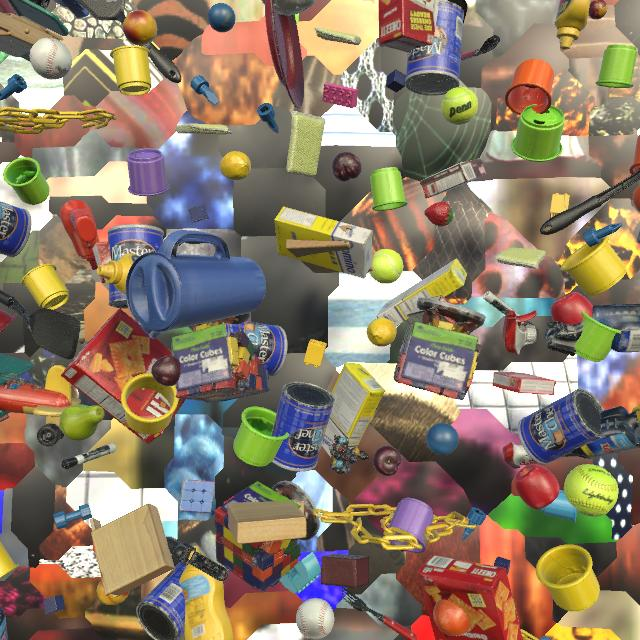ycb_002_master_chef_can: (518, 388, 605, 465), (271, 381, 335, 472), (405, 0, 464, 96), (107, 224, 164, 309), (136, 562, 186, 640), (222, 321, 288, 376), (0, 201, 31, 257)
ycb_003_cracker_box: (61, 308, 186, 444), (418, 554, 523, 640), (378, 0, 462, 53)
ycb_004_sugar_box: (274, 206, 372, 279), (377, 258, 467, 326), (322, 363, 385, 457)
ycb_006_mustard_bottle: (179, 546, 234, 640), (554, 0, 591, 50), (97, 253, 140, 295)
ycb_008_pudding_box: (420, 158, 487, 198), (406, 295, 470, 334)
ycb_009_gelatin_box: (492, 372, 556, 395), (92, 241, 111, 283)
ycb_010_potted_meat_can: (637, 231, 640, 244)
ycb_012_strawberry: (424, 202, 454, 227)
ycb_013_apple: (515, 464, 560, 510), (551, 292, 593, 325)
ycb_014_lemon: (220, 151, 251, 181), (367, 318, 397, 347)
ycb_015_peach: (123, 10, 157, 45), (97, 580, 130, 605)
ycb_016_pear: (60, 404, 105, 441)
ycb_017_orange: (433, 599, 470, 636), (633, 185, 640, 212)
ycb_018_plum: (151, 356, 181, 386), (332, 152, 362, 182), (373, 445, 401, 476)
